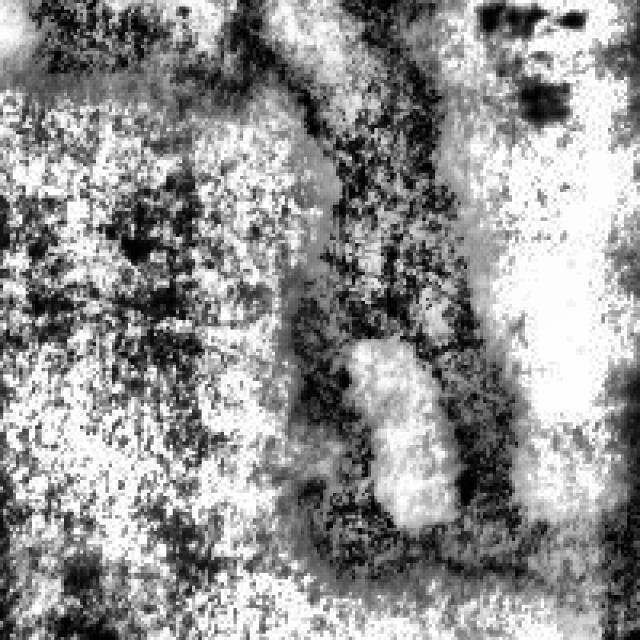Scratches: (221, 16, 528, 605), (0, 0, 192, 90), (557, 426, 637, 636)
